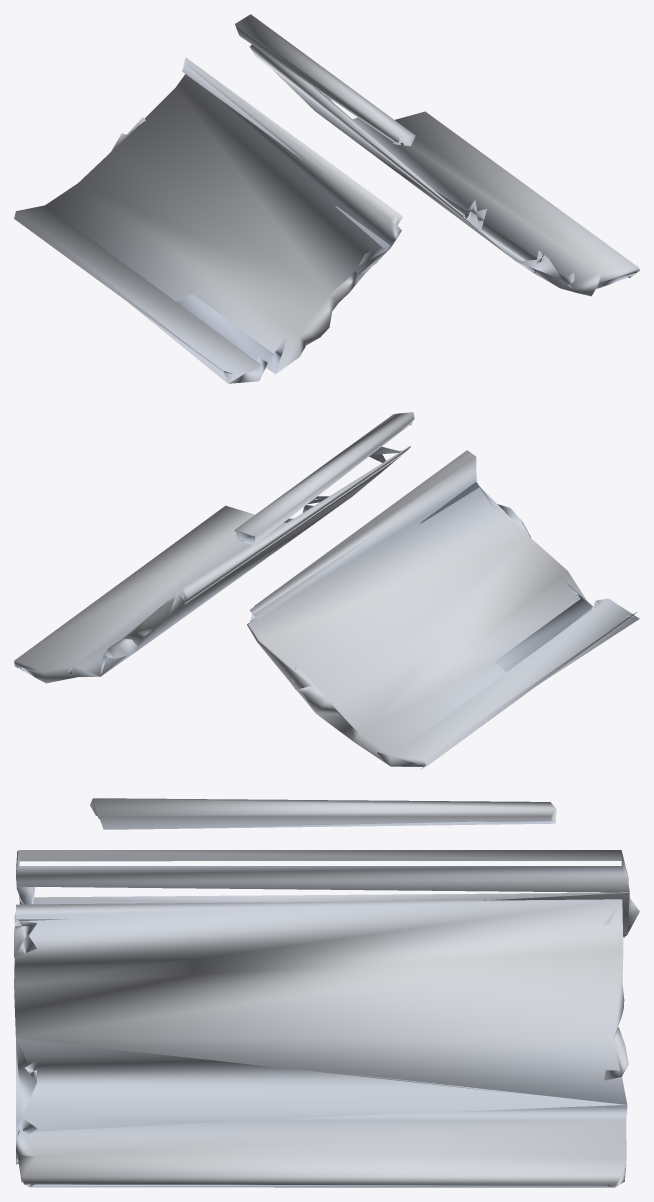
The model's file is protocol.sushiswap.snow.glb.
The picture shows the model from 3 angles, top to bottom: view 1: azimuth 30°, elevation 25°; view 2: azimuth 150°, elevation 25°; view 3: azimuth 270°, elevation 25°; orthographic projection. The views are drawn at different scales.
Parts seen in each view (by area): view 1: building.protocol.sushiswap.snow.mesh; view 2: building.protocol.sushiswap.snow.mesh; view 3: building.protocol.sushiswap.snow.mesh.
Boxes of the visible parts, x1=… form: building.protocol.sushiswap.snow.mesh: x1=14, y1=14, x2=639, y2=383; building.protocol.sushiswap.snow.mesh: x1=14, y1=412, x2=639, y2=769; building.protocol.sushiswap.snow.mesh: x1=14, y1=798, x2=639, y2=1187.
Size of the model in its own units: 2.19 by 0.9227 by 2.02.
